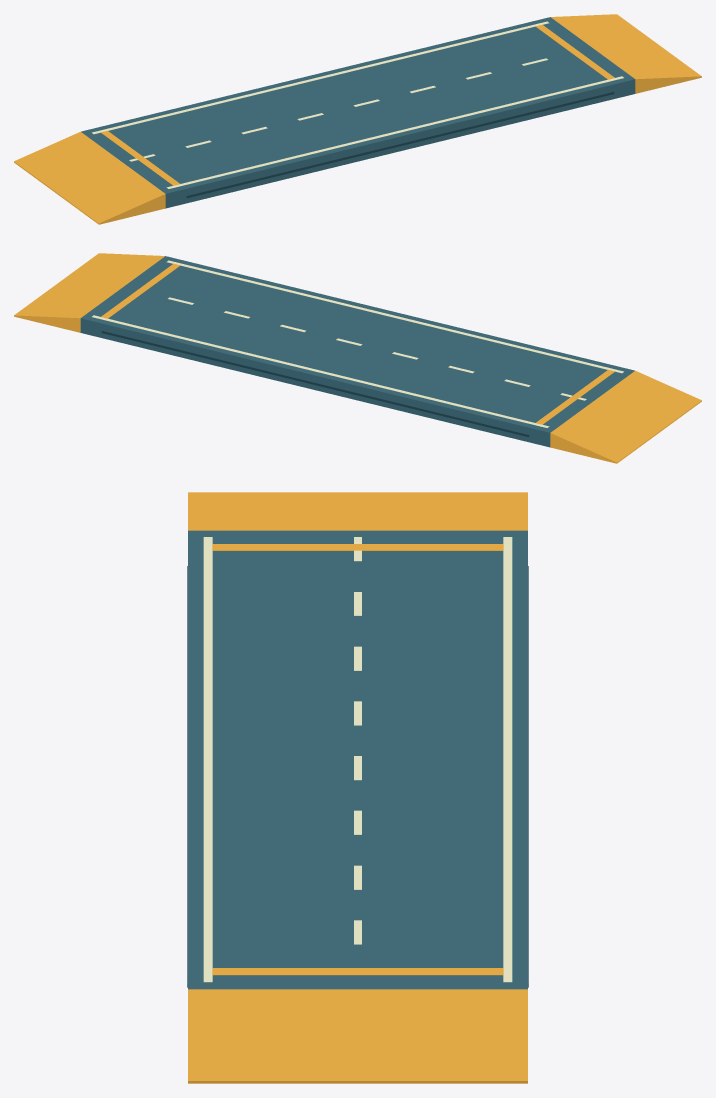
The model's file is seesaw.glb.
3 renders of one model, top to bottom at view 1: azimuth 30°, elevation 25°; view 2: azimuth 150°, elevation 25°; view 3: azimuth 270°, elevation 25°, orthographic. The views are drawn at different scales.
Parts seen in each view (by area): view 1: Deck, Rail.001, Rail, Lane edge.001, Lane edge, Deck reinforcement.001, Threshold, Threshold.001; view 2: Deck, Rail.001, Rail, Lane edge, Lane edge.001, Deck reinforcement, Threshold, Threshold.001; view 3: Deck, Rail, Rail.001, Lane edge, Lane edge.001, Threshold, Threshold.001.
Part boxes in pixels (x1,y1,x2,y2): Deck: [81, 17, 635, 208]; Rail.001: [14, 131, 165, 224]; Rail: [551, 14, 701, 93]; Lane edge.001: [166, 76, 623, 188]; Lane edge: [92, 21, 549, 134]; Deck reinforcement.001: [186, 92, 614, 198]; Threshold: [535, 24, 614, 79]; Threshold.001: [101, 130, 179, 185]; Deck: [80, 256, 634, 447]; Rail.001: [550, 370, 701, 463]; Rail: [14, 253, 164, 332]; Lane edge: [92, 315, 549, 427]; Lane edge.001: [166, 260, 623, 373]; Deck reinforcement: [101, 331, 529, 437]; Threshold: [101, 263, 180, 318]; Threshold.001: [536, 369, 614, 424]; Deck: [188, 530, 527, 989]; Rail: [188, 989, 527, 1083]; Rail.001: [188, 492, 527, 530]; Lane edge: [503, 537, 512, 982]; Lane edge.001: [203, 537, 212, 982]; Threshold: [212, 968, 503, 975]; Threshold.001: [212, 544, 503, 550].
Size of the model in its own units: 172 by 4.07 by 42.12.
